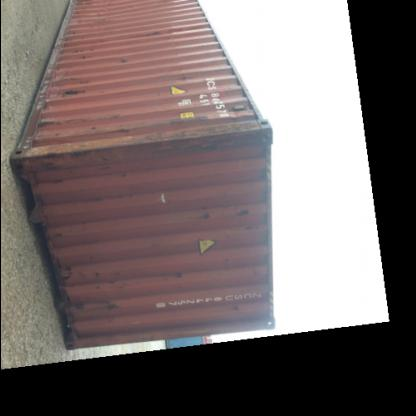Damage: (57, 249, 133, 326), (136, 112, 258, 158), (56, 5, 110, 70), (28, 147, 86, 193), (26, 115, 74, 150), (40, 84, 88, 112), (93, 150, 132, 180), (82, 126, 136, 142), (234, 204, 258, 238), (86, 188, 136, 204), (140, 24, 177, 42), (178, 57, 196, 90), (166, 264, 188, 287), (199, 203, 217, 229), (231, 299, 249, 313), (119, 54, 132, 68), (110, 110, 124, 120), (90, 122, 102, 128)
